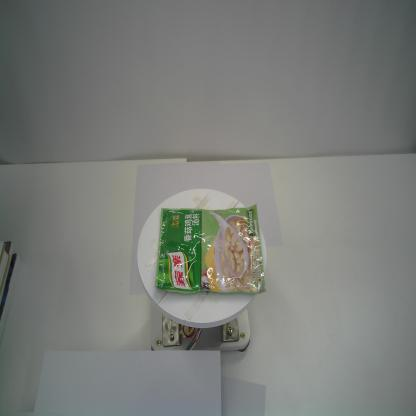Seasoner: (154, 203, 268, 295)
